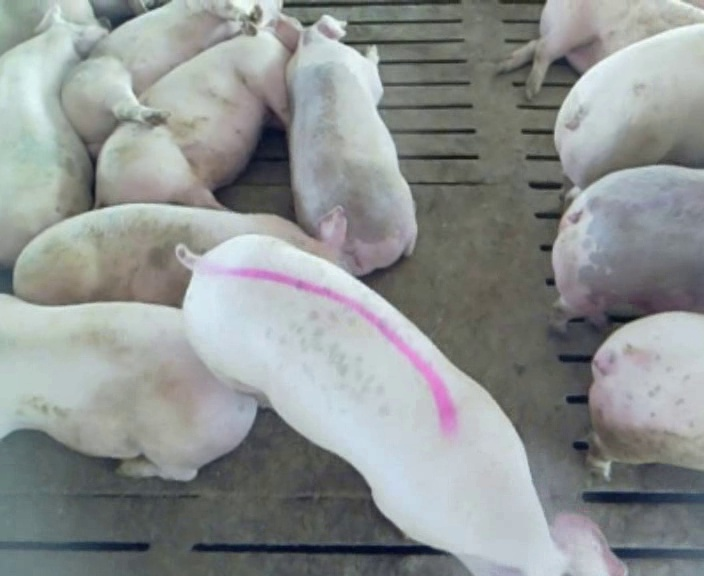pig: (177, 236, 624, 573), (97, 17, 293, 207), (275, 14, 416, 275), (61, 2, 281, 158), (13, 204, 349, 305), (554, 24, 703, 213), (0, 5, 105, 266), (552, 165, 703, 329), (498, 2, 703, 98), (587, 312, 703, 478)
